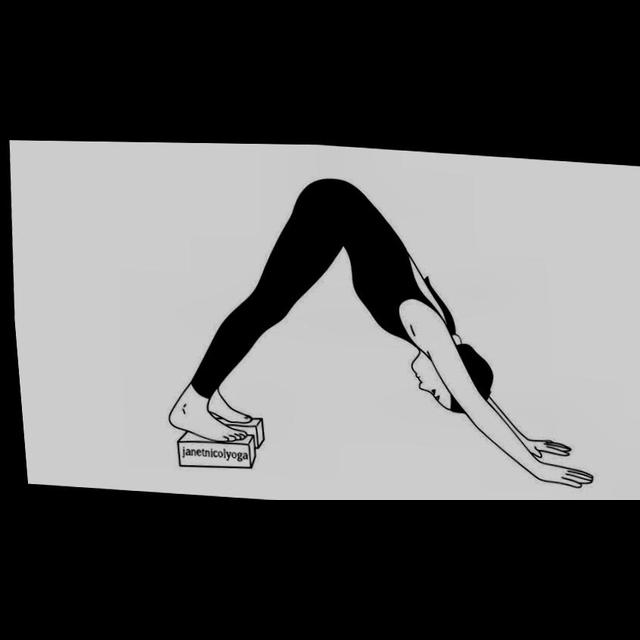Downward-Facing_Dog: (163, 173, 597, 491)
